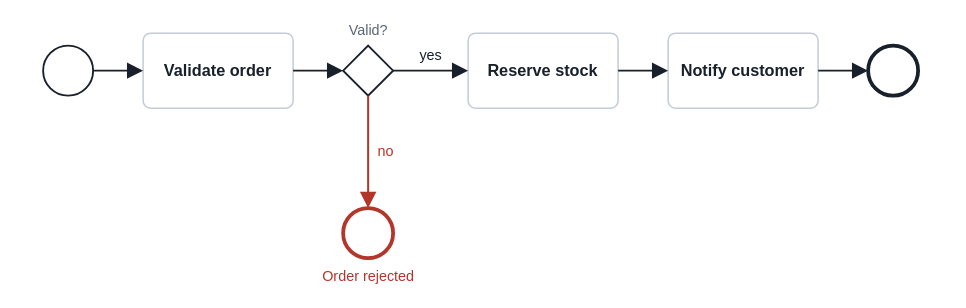
The diagram is 966 pixels wide and 308 high, and some of its shapes have lost their labels. Here are the shapes that lost their labels. From the top down, the centre of each, then its label:
At [68,70]: "Order received".
At [892,70]: "Order confirmed".
